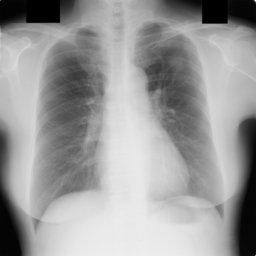left lobe: (136, 23, 224, 204)
right lobe: (32, 27, 105, 218)
